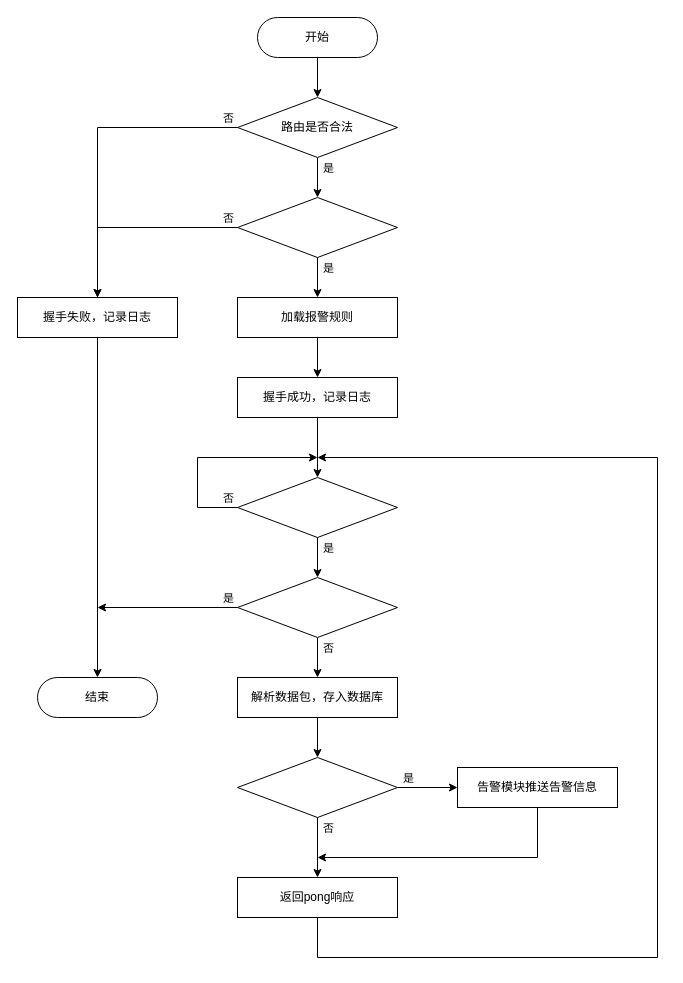
Some shapes in this 683 by 983 pixel diagram are drawn without their labels. Each missing label, with the centre of its shape:
token是否有效: (x=317, y=227)
分析模块判断是否报警: (x=317, y=787)
接收到消息: (x=317, y=507)
消息为断开信号: (x=317, y=607)
